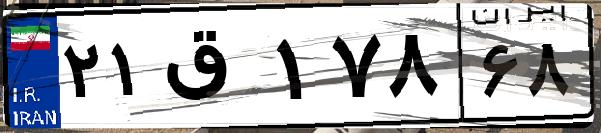1: (270, 28, 330, 110), (110, 28, 158, 98)
2: (57, 26, 110, 100)
6: (475, 38, 525, 113)
7: (330, 28, 385, 110)
8: (385, 28, 445, 110), (525, 38, 570, 115)
ق: (158, 20, 270, 120)
